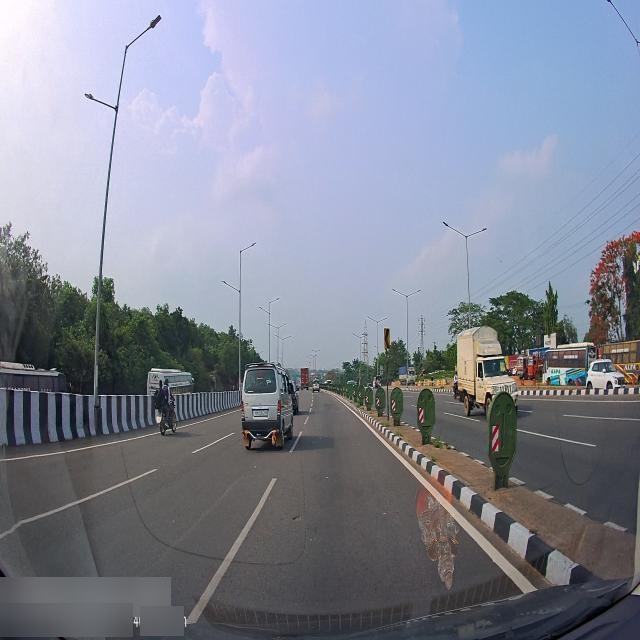pothole: (288, 507, 304, 530)
